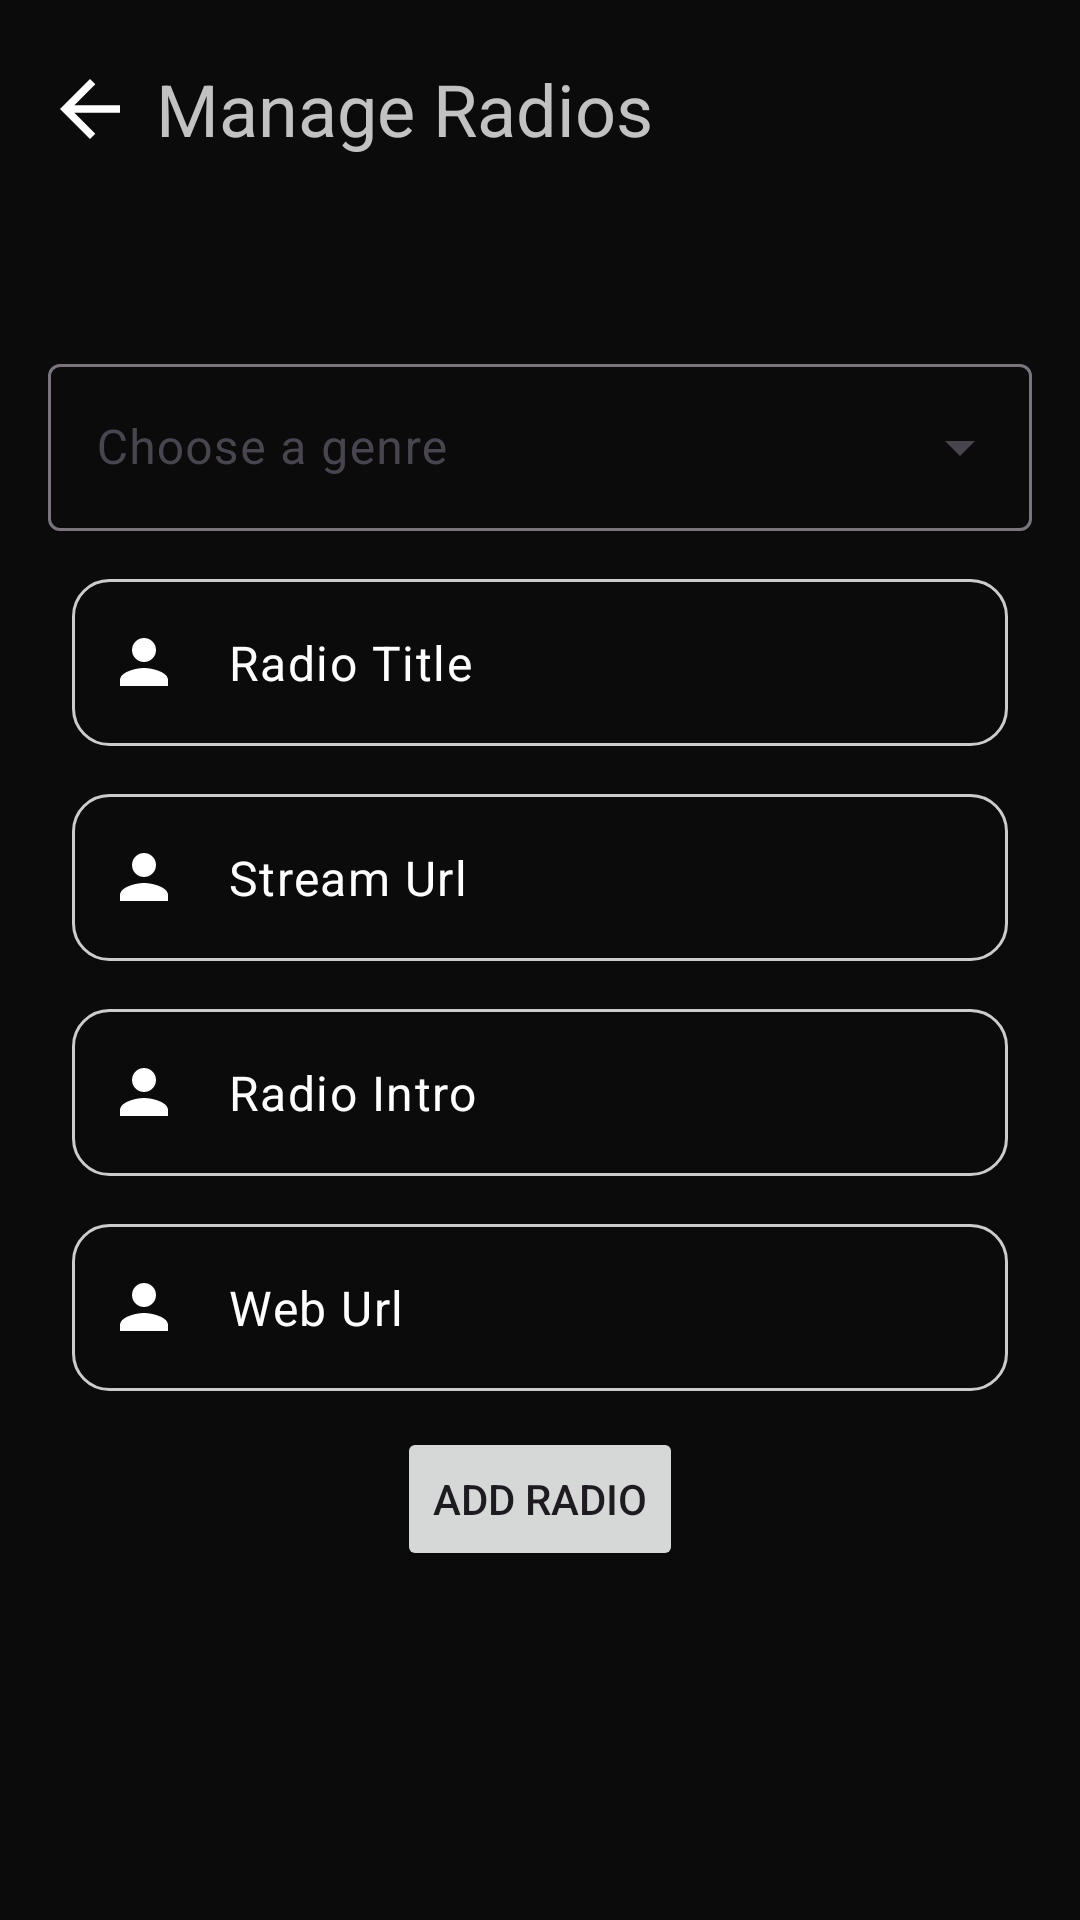

Named icons in this screenshot (1080 × 1920) and their bounding boxes, detection(x1, y1, x2, y2):
arrow back: detection(60, 79, 120, 139)
